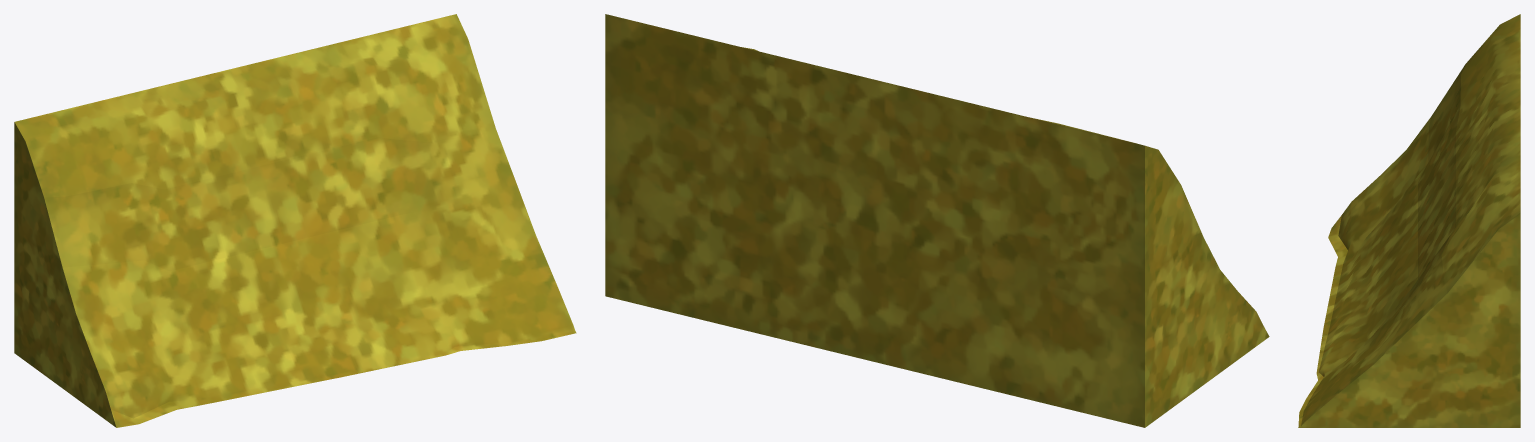
File: grass_slope_short.fbx
The picture shows the model from 3 angles, left to right: view 1: azimuth 30°, elevation 25°; view 2: azimuth 150°, elevation 25°; view 3: azimuth 270°, elevation 25°; orthographic projection. The views are drawn at different scales.
Visible parts, largest first — view 1: desert_grass46; view 2: desert_grass46; view 3: desert_grass46.
Boxes of the visible parts, x1,y1,x2,y2 form: desert_grass46: [14, 14, 576, 427]; desert_grass46: [605, 14, 1269, 427]; desert_grass46: [1298, 14, 1520, 427].
Size of the model in its own units: 200 by 100 by 93.96.
